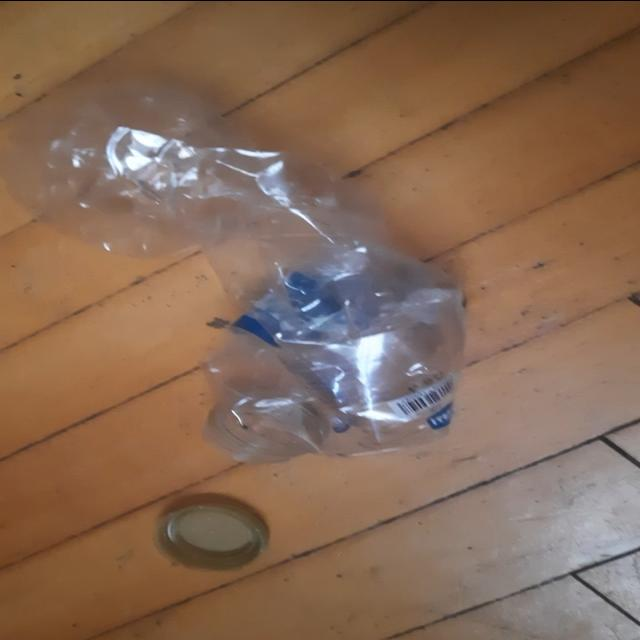Plastic: (19, 81, 466, 462)
